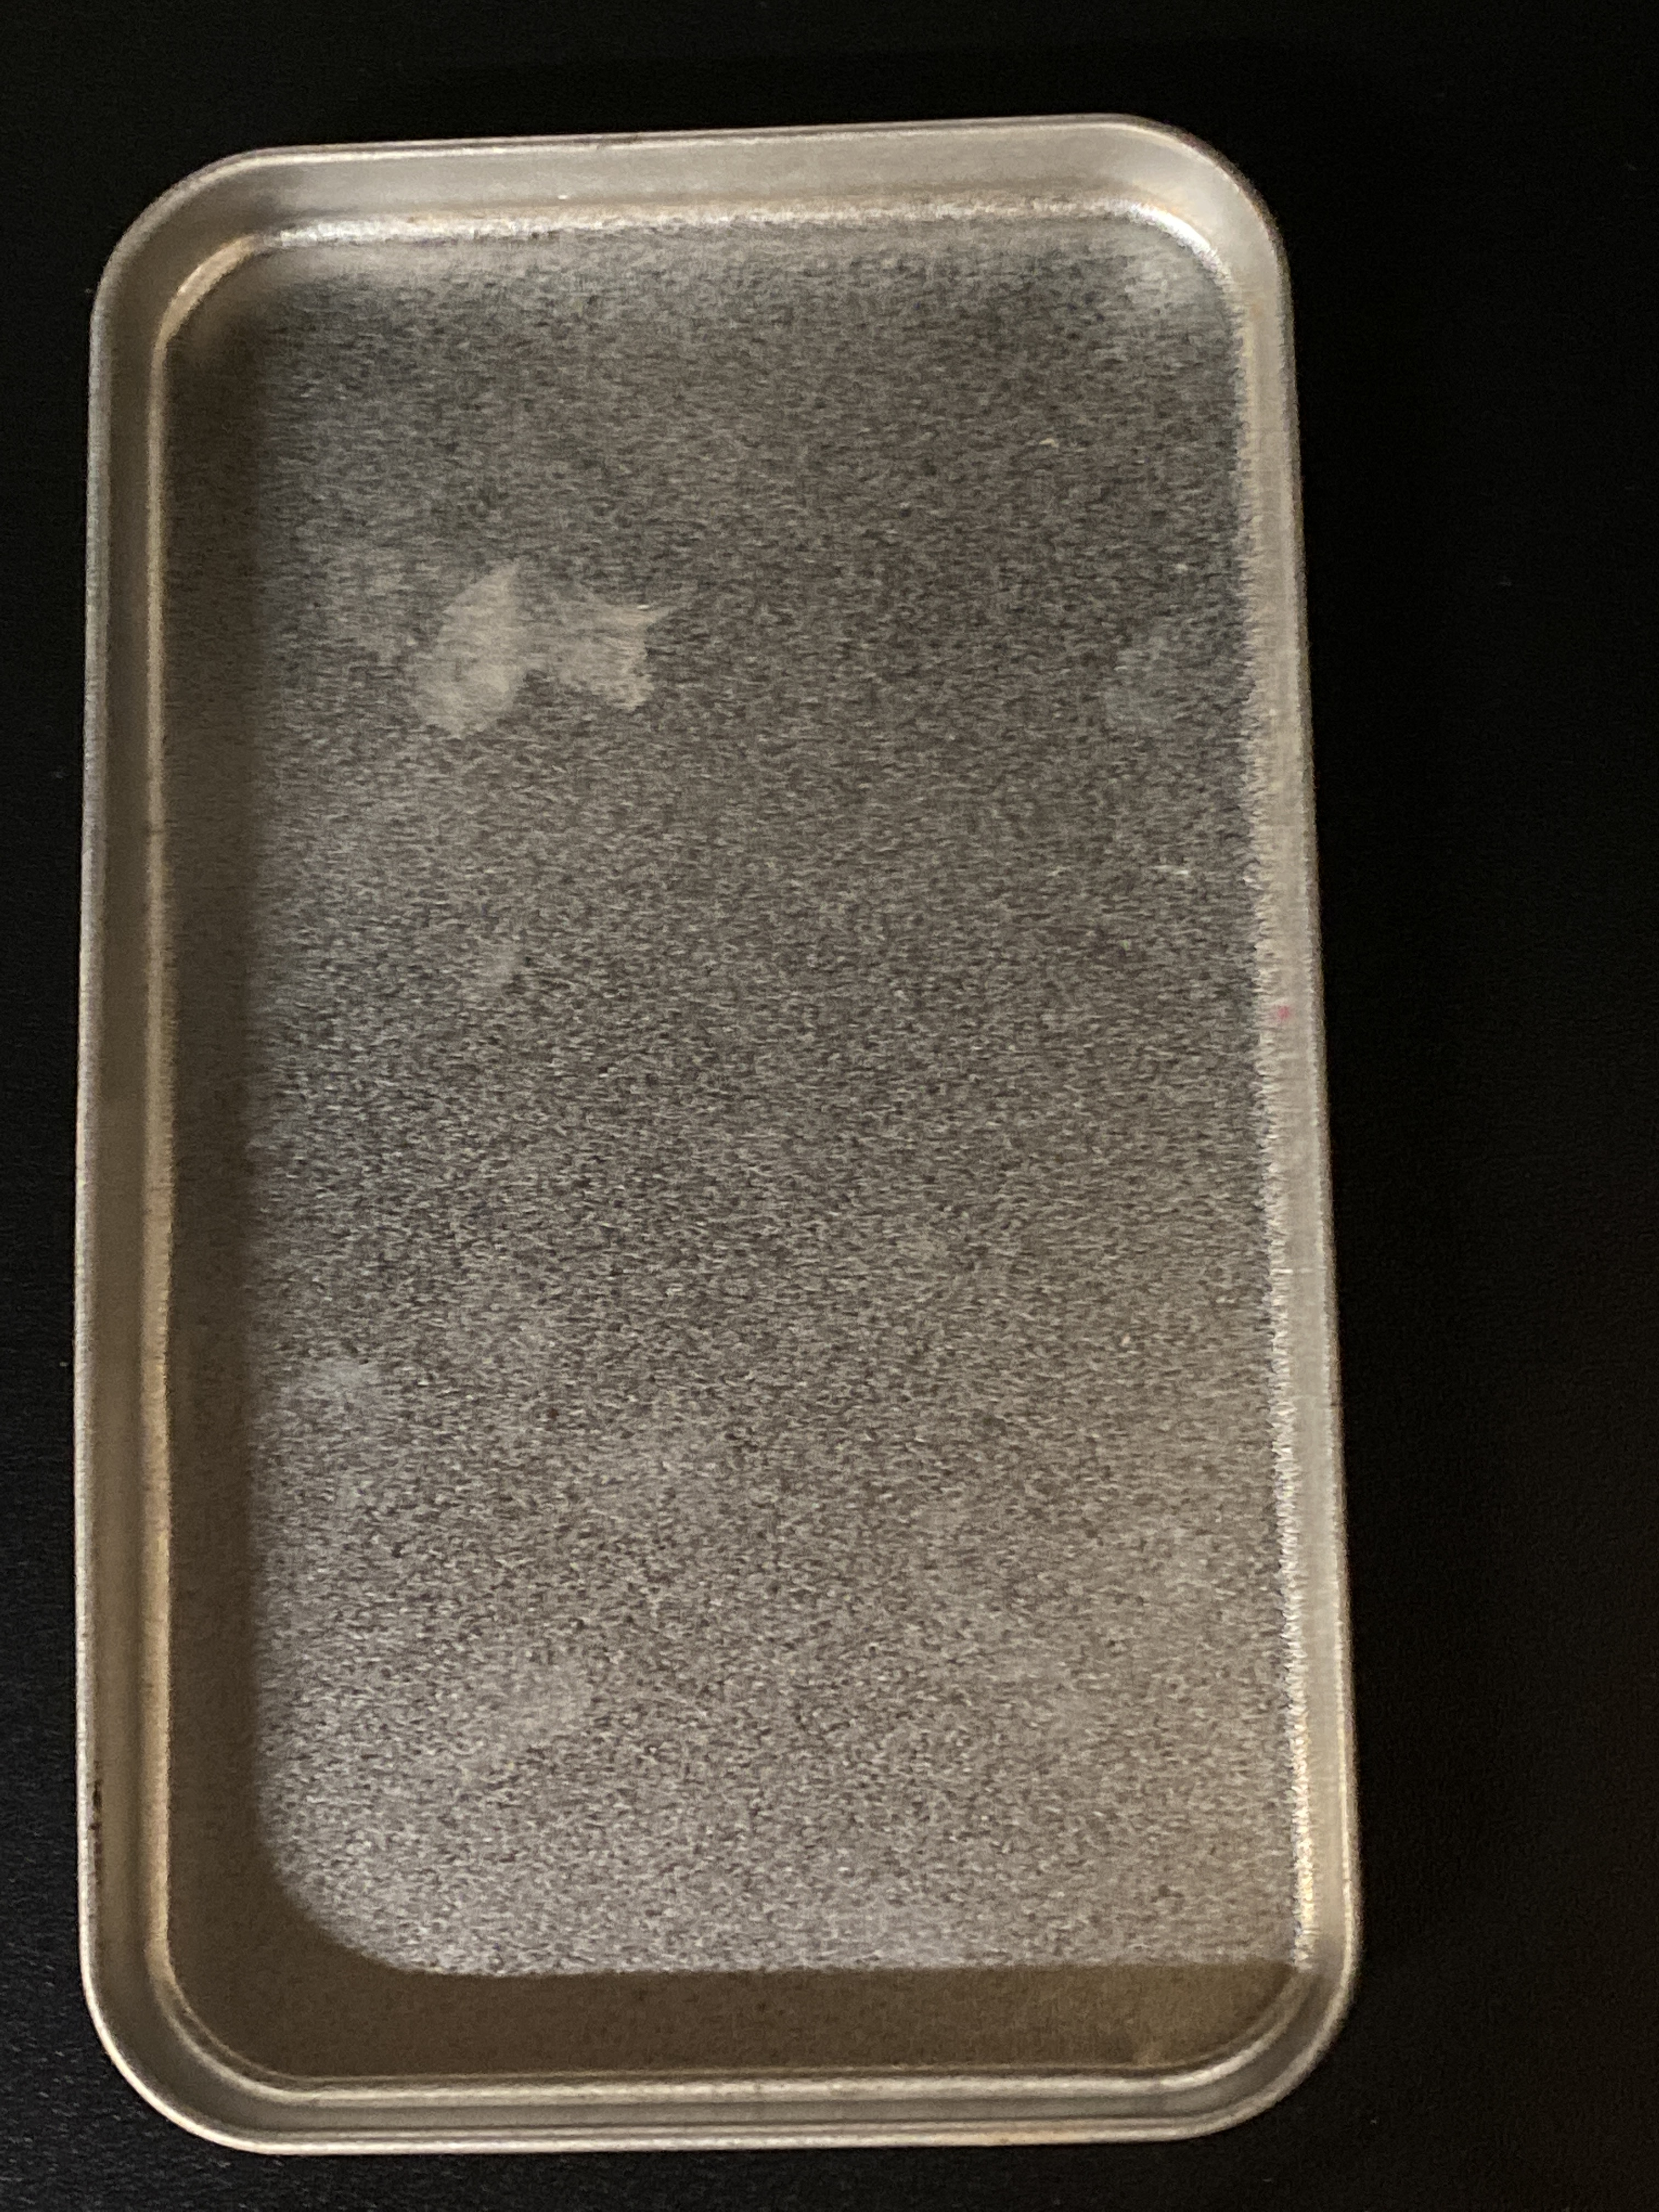metal: (40, 73, 1399, 2167)
